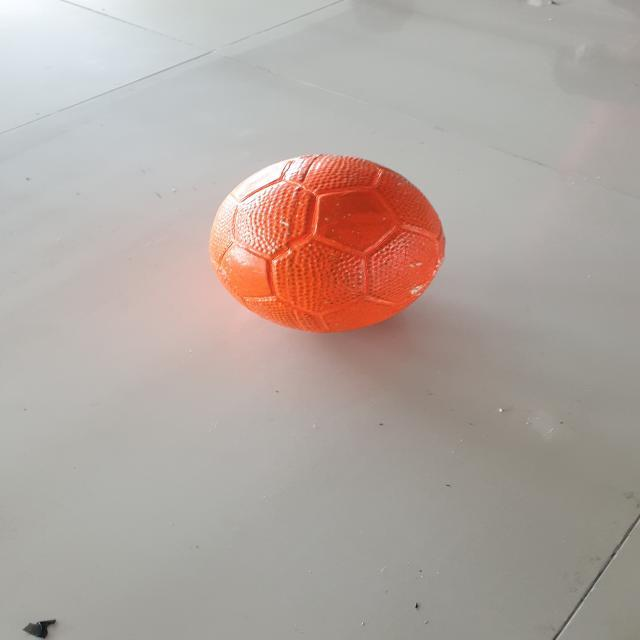bola: (194, 148, 456, 342)
